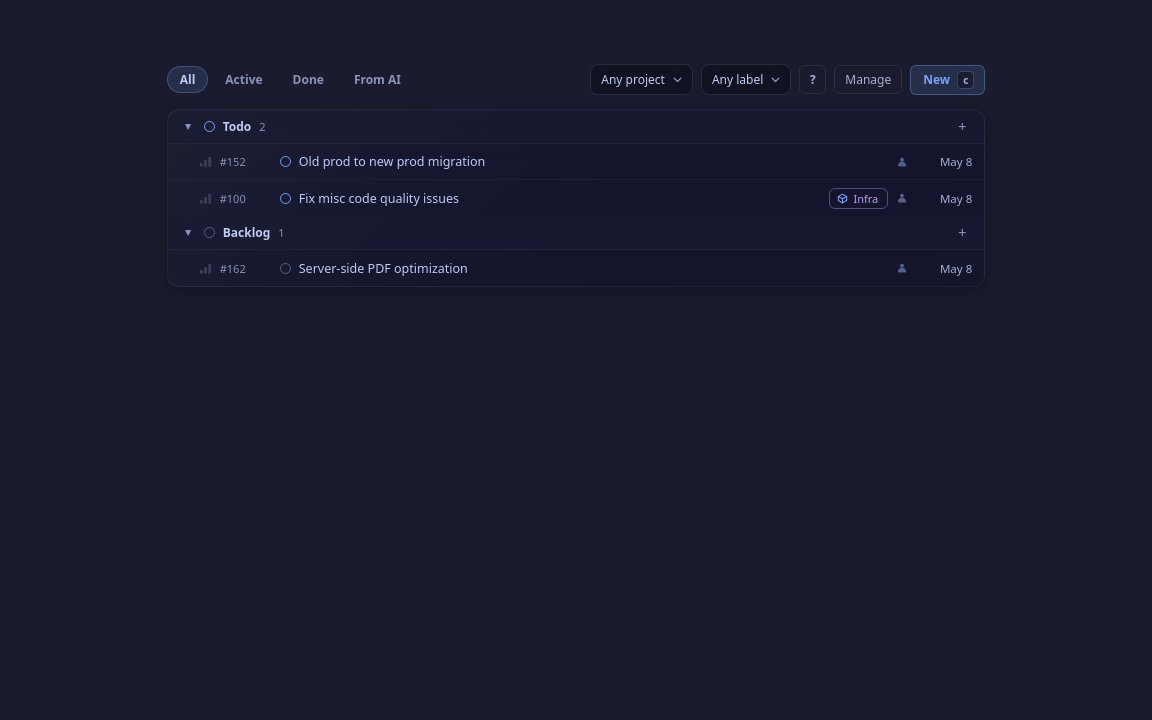
Test: TodosPage notes editor › closes only the expanded editor on Escape, leaving the create dialog open
Expected: the text "Old prod to new prod migration" is shown, [299,153,485,170]
Press c
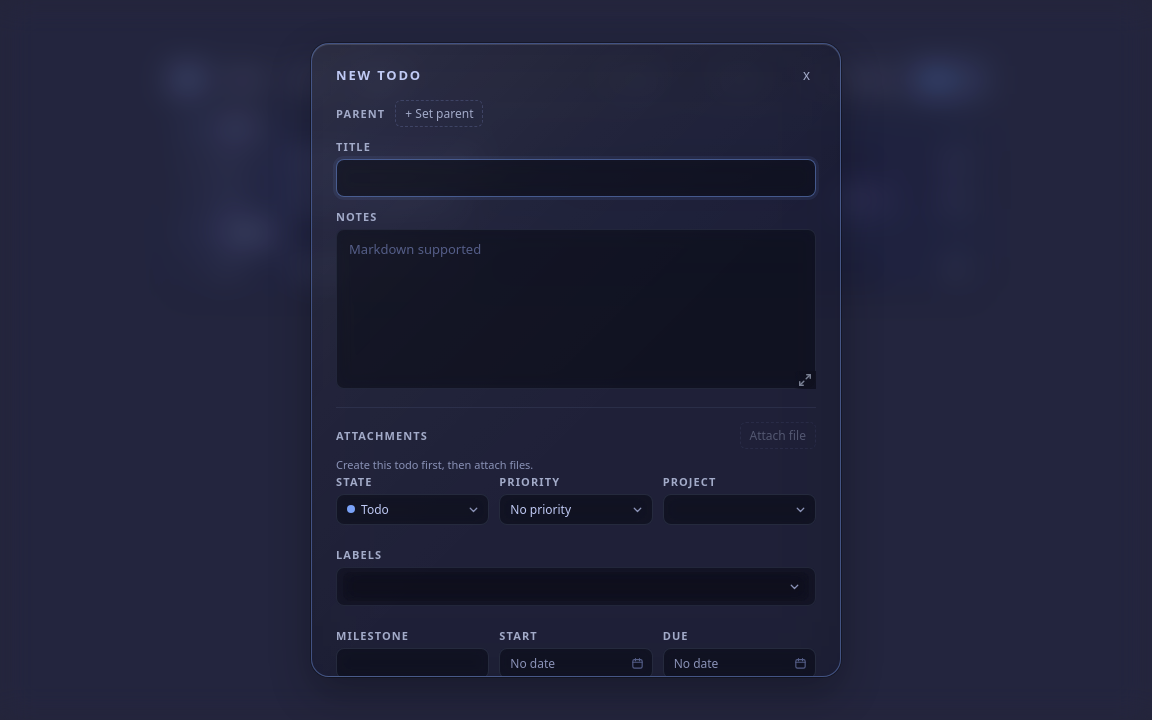
Click the button named "Open full editor": (805, 380) [794,371,816,389]
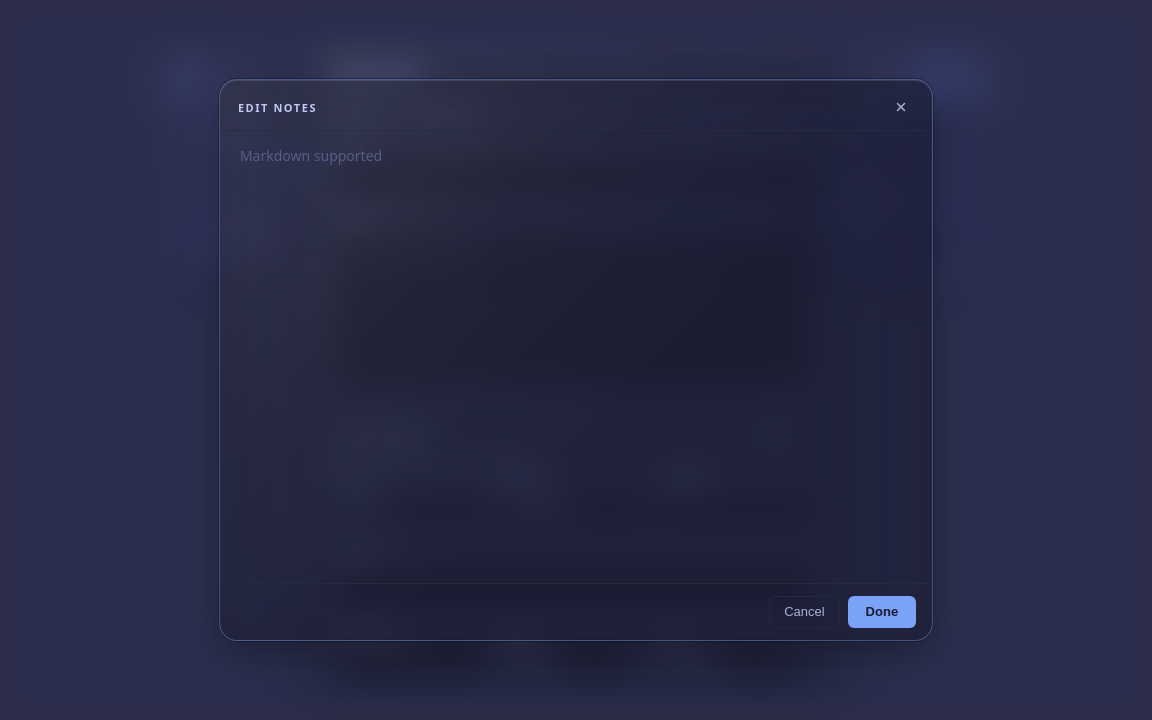
Press Escape in the dialog "Edit Notes", box [219,79,933,641]
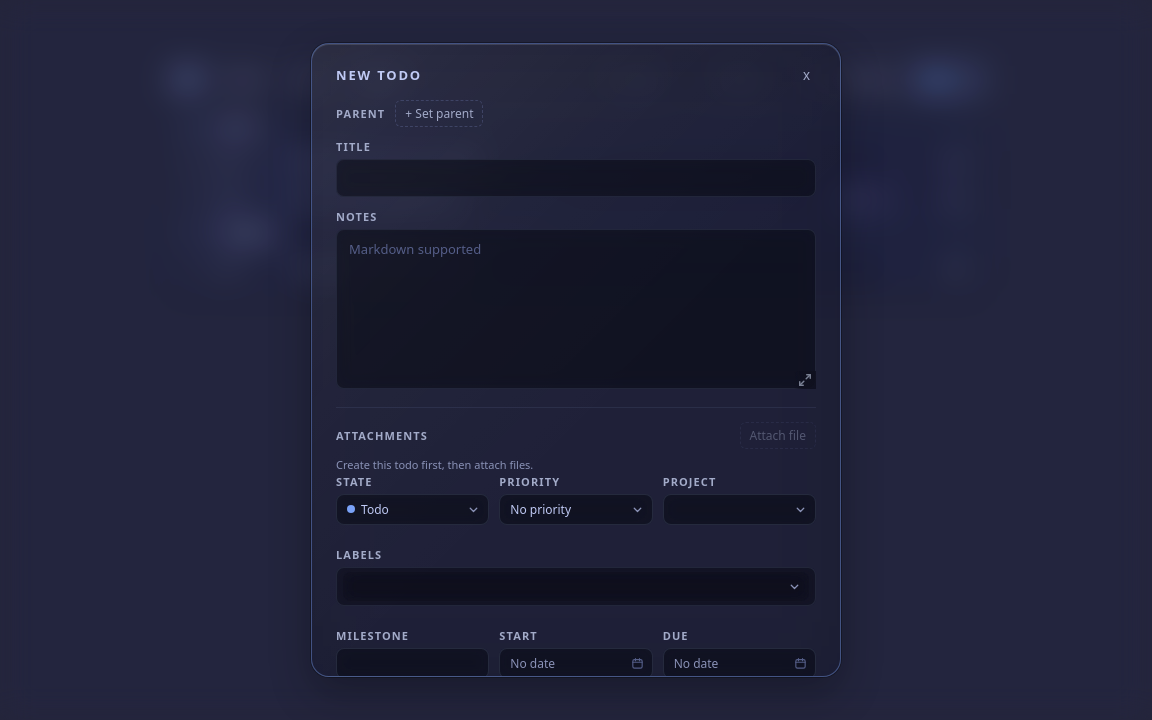
Expected: the dialog "New Todo" is shown, [311,43,841,677]
Expected: the text "Edit Notes" is gone
